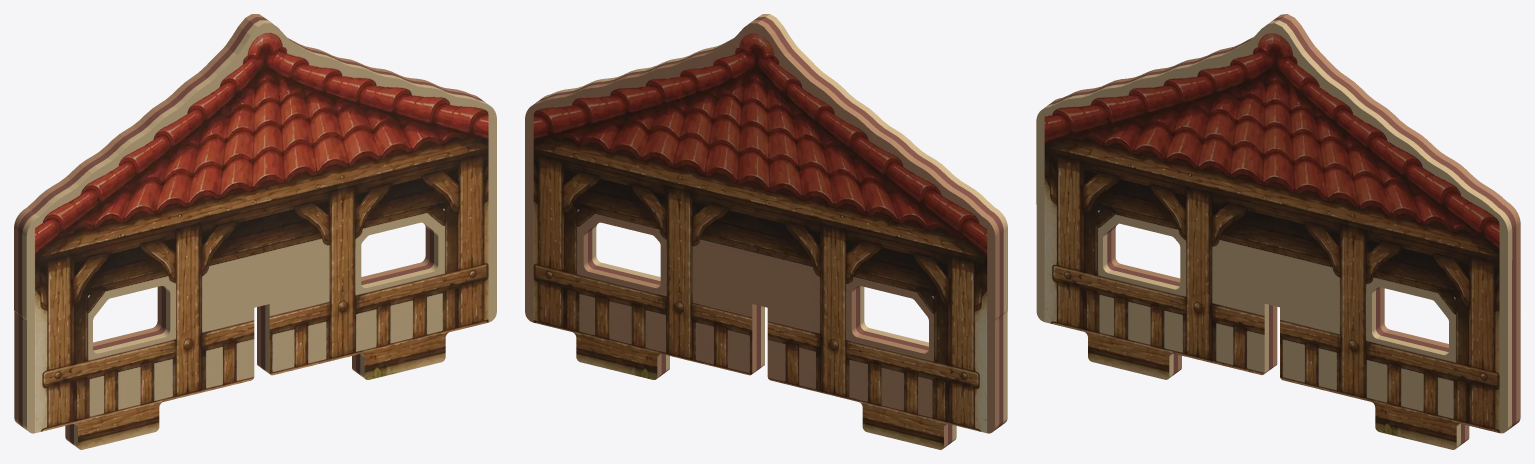
File: narrow-panel-gable.glb
3 views of the same model, side by side, from view 1: azimuth 30°, elevation 25°; view 2: azimuth 150°, elevation 25°; view 3: azimuth 330°, elevation 25° (orthographic).
Parts seen in each view (by area): view 1: narrow-panel-gable; view 2: narrow-panel-gable; view 3: narrow-panel-gable.
Boxes of the visible parts, left/top/right/bottom form: narrow-panel-gable: left=14, top=14, right=496, bottom=449; narrow-panel-gable: left=525, top=14, right=1007, bottom=449; narrow-panel-gable: left=1036, top=14, right=1520, bottom=449.
Size of the model in its own units: 581 by 451 by 27.
Materials: 6 (3 with a texture image).
